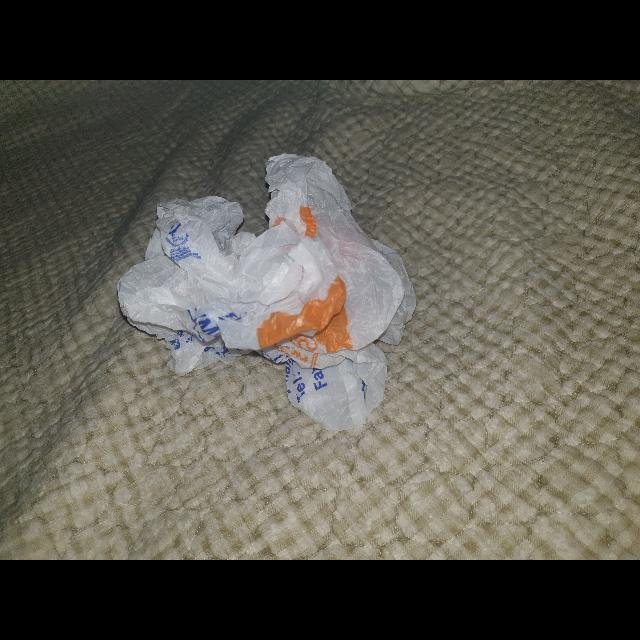plastic_bag: (107, 142, 430, 444)
